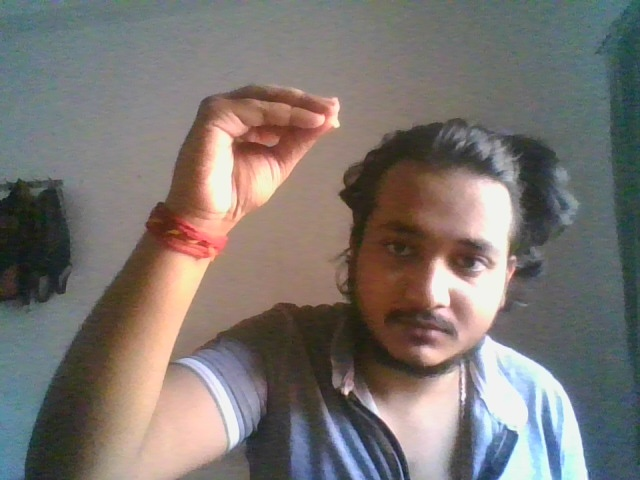Mouth: (172, 82, 341, 219)
